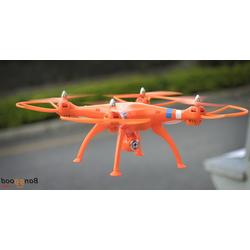drone: (16, 86, 250, 177)
